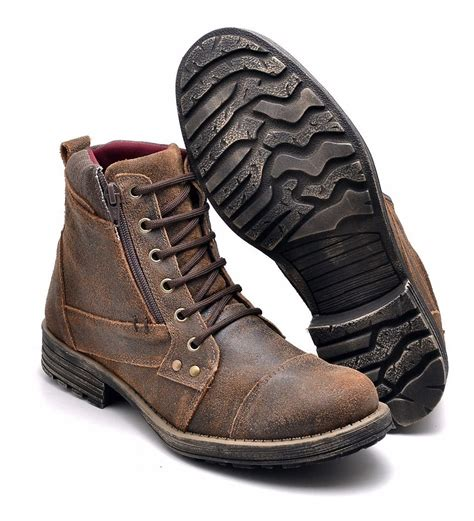cuero: (39, 135, 380, 444)
